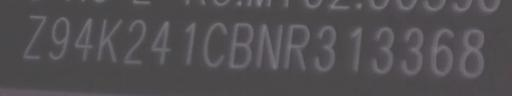letter: (254, 21, 286, 69), (457, 26, 487, 77), (428, 26, 456, 78), (310, 22, 338, 72), (282, 22, 310, 71), (398, 25, 426, 74), (19, 12, 47, 60), (96, 15, 124, 63), (200, 19, 228, 67), (370, 24, 396, 74), (122, 17, 148, 65), (46, 15, 72, 62), (228, 21, 254, 68), (149, 18, 173, 66), (72, 14, 94, 64), (347, 22, 365, 72), (181, 20, 199, 67)
